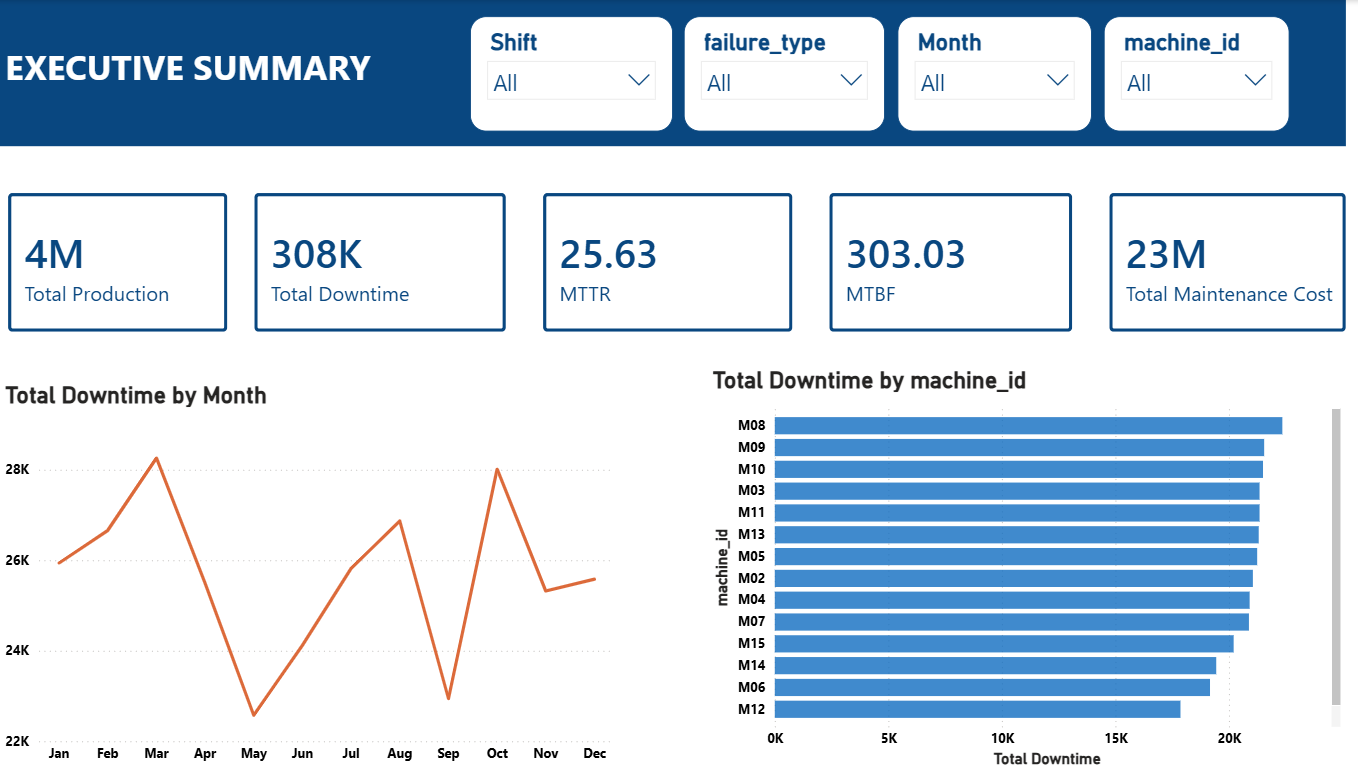

This screenshot's page, from the dashboard's own definition file:
{"tool":"powerbi","page":{"name":"Executive Summary","canvas":[1280,720],"ordinal":0},"visuals":[{"type":"cardVisual","fields":{"Data":["manufacturing_downtime_dataset.Total Production"]},"box":[0,163.1,238,163.1],"z":0},{"type":"cardVisual","fields":{"Data":["manufacturing_downtime_dataset.Total Downtime"]},"box":[228.7,163.1,268.8,163.1],"z":1},{"type":"cardVisual","fields":{"Data":["manufacturing_downtime_dataset.MTTR"]},"box":[497.5,163.1,266.1,163.1],"z":2},{"type":"cardVisual","fields":{"Data":["manufacturing_downtime_dataset.MTBF"]},"box":[763.6,163.1,260.8,163.1],"z":3},{"type":"cardVisual","fields":{"Data":["manufacturing_downtime_dataset.Total Maintenance Cost"]},"box":[1024.3,163.1,254.1,163.1],"z":4},{"type":"lineChart","fields":{"Category":["manufacturing_downtime_dataset.Month"],"Y":["manufacturing_downtime_dataset.Total Downtime"]},"box":[9.4,354.4,576.4,365.1],"z":5},{"type":"clusteredBarChart","fields":{"Category":["manufacturing_downtime_dataset.machine_id"],"Y":["manufacturing_downtime_dataset.Total Downtime"]},"box":[667.3,341,593.7,378.4],"z":6},{"type":"textbox","box":[9.4,0,1251.7,136.4],"z":7},{"type":"slicer","fields":{"Values":["manufacturing_downtime_dataset.shift"]},"box":[446.6,14.7,188.6,107],"z":8},{"type":"slicer","fields":{"Values":["manufacturing_downtime_dataset.failure_type"]},"box":[645.9,14.7,187.2,107],"z":9},{"type":"slicer","fields":{"Values":["manufacturing_downtime_dataset.Month"]},"box":[843.8,14.7,180.5,107],"z":10},{"type":"slicer","fields":{"Values":["manufacturing_downtime_dataset.machine_id"]},"box":[1036.4,14.7,172.5,107],"z":11}]}

Visuals, with their boxes in screenshot pixels (x1, y1, x2, y2), scaled from the page's 1280x720 canvas onto the 1358x773 screenshot:
cardVisual - manufacturing_downtime_dataset.Total Production: box(0, 175, 253, 350)
cardVisual - manufacturing_downtime_dataset.Total Downtime: box(243, 175, 528, 350)
cardVisual - manufacturing_downtime_dataset.MTTR: box(528, 175, 810, 350)
cardVisual - manufacturing_downtime_dataset.MTBF: box(810, 175, 1087, 350)
cardVisual - manufacturing_downtime_dataset.Total Maintenance Cost: box(1087, 175, 1356, 350)
lineChart - manufacturing_downtime_dataset.Month x manufacturing_downtime_dataset.Total Downtime: box(10, 380, 621, 772)
clusteredBarChart - manufacturing_downtime_dataset.machine_id x manufacturing_downtime_dataset.Total Downtime: box(708, 366, 1338, 772)
textbox: box(10, 0, 1338, 146)
slicer - manufacturing_downtime_dataset.shift: box(474, 16, 674, 131)
slicer - manufacturing_downtime_dataset.failure_type: box(685, 16, 884, 131)
slicer - manufacturing_downtime_dataset.Month: box(895, 16, 1087, 131)
slicer - manufacturing_downtime_dataset.machine_id: box(1100, 16, 1283, 131)
